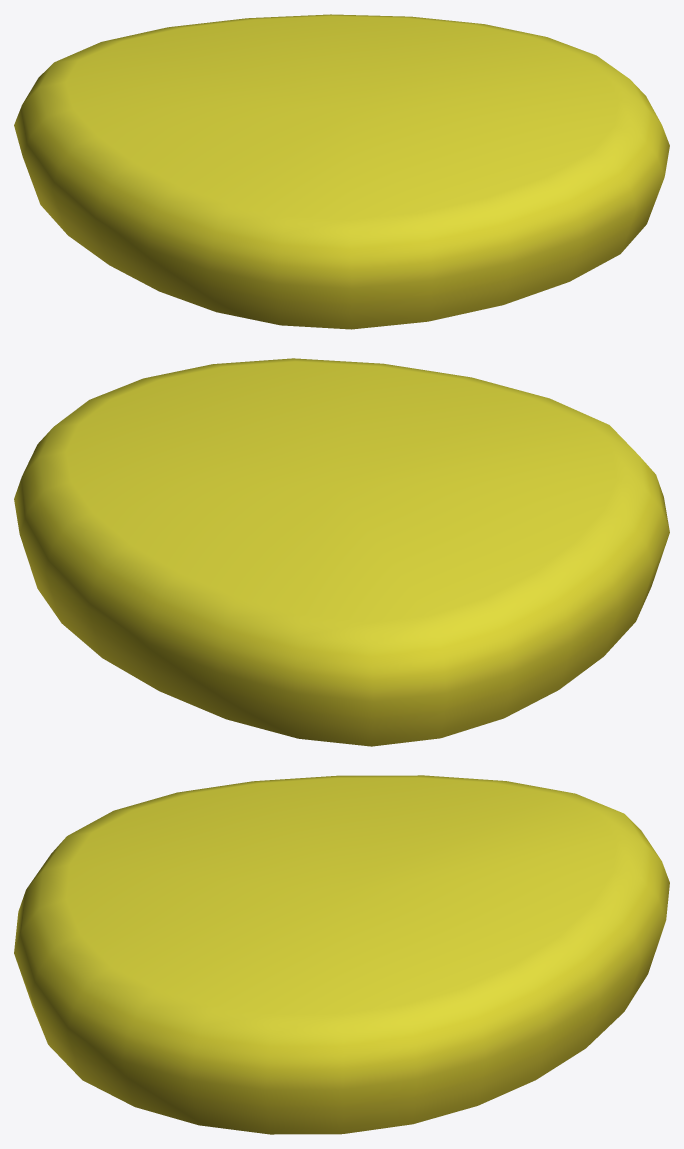
The model's file is Leaf_03.glb.
The picture shows the model from 3 angles, top to bottom: view 1: azimuth 30°, elevation 25°; view 2: azimuth 150°, elevation 25°; view 3: azimuth 270°, elevation 25°; orthographic projection. The views are drawn at different scales.
Visible parts, largest first — view 1: Leaf_03; view 2: Leaf_03; view 3: Leaf_03.
Boxes of the visible parts, box(x1,y1,x2,y2) form: Leaf_03: box(14, 14, 669, 329); Leaf_03: box(14, 358, 669, 746); Leaf_03: box(14, 775, 669, 1134).
Size of the model in its own units: 1.98 by 0.3457 by 1.95.
Materials: 1 (1 with a texture image).
